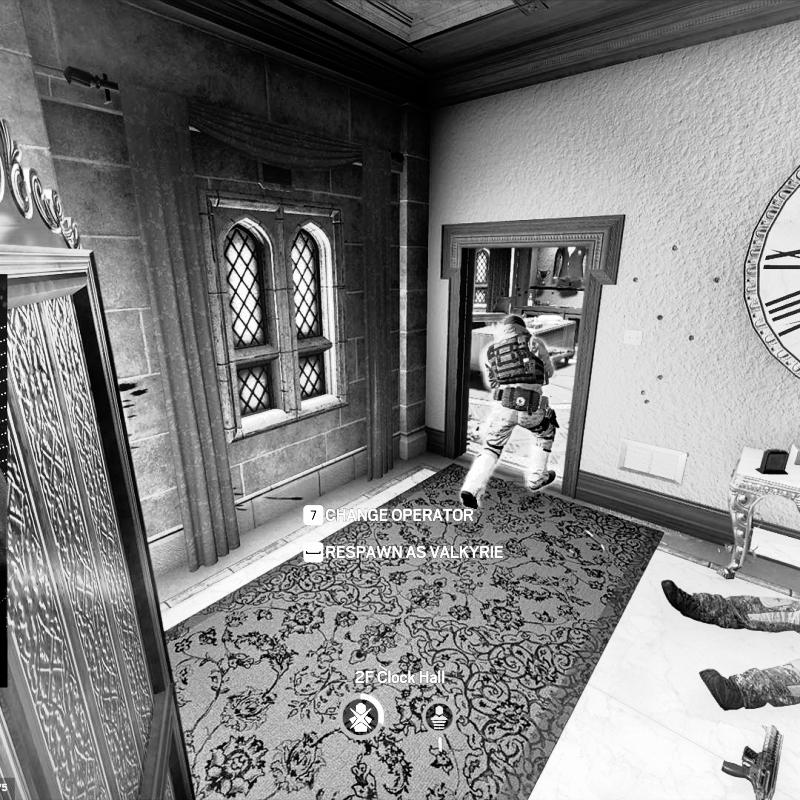Character: (656, 575, 800, 714), (459, 314, 559, 510)
Head: (498, 311, 529, 337)
